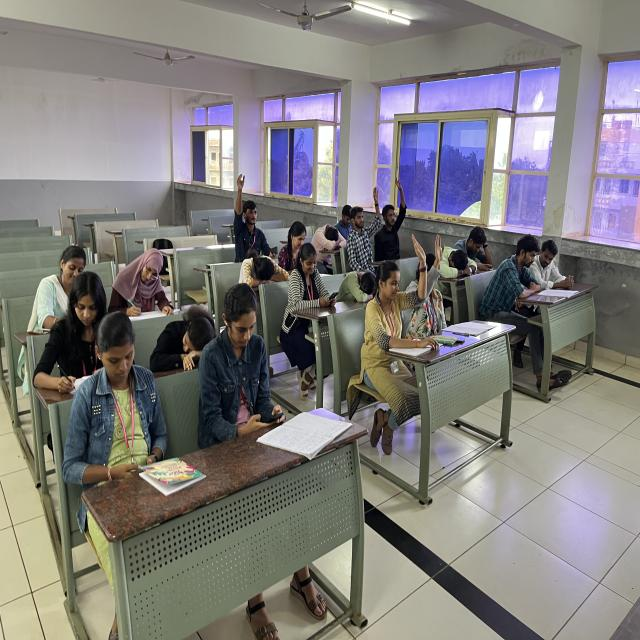Hand Rising: (366, 228, 428, 357), (412, 228, 453, 334), (231, 172, 268, 254), (378, 172, 414, 246), (350, 184, 381, 269)
Reading: (485, 227, 561, 310), (527, 229, 574, 302)
Sleeping: (144, 302, 220, 378), (228, 247, 296, 290), (432, 238, 479, 287), (334, 264, 384, 309), (308, 219, 348, 259)
Using Phone: (59, 308, 175, 474), (199, 286, 289, 432), (284, 243, 342, 330)
Writing: (39, 268, 107, 386), (102, 245, 181, 317)
